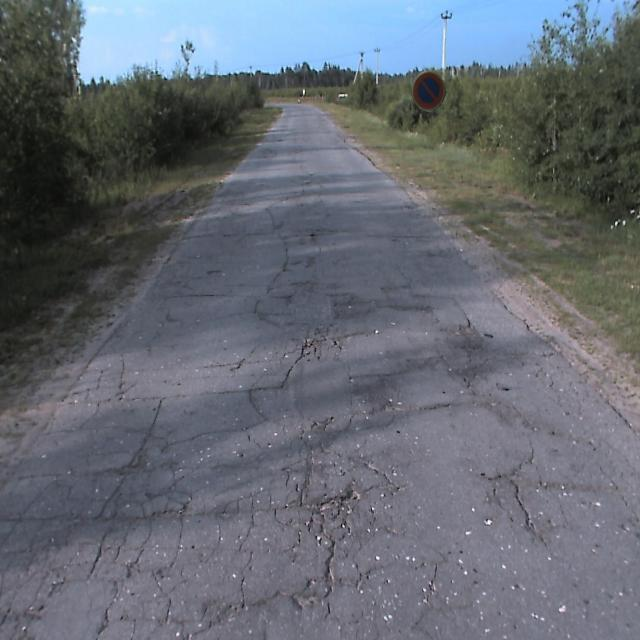road: (0, 103, 639, 639)
